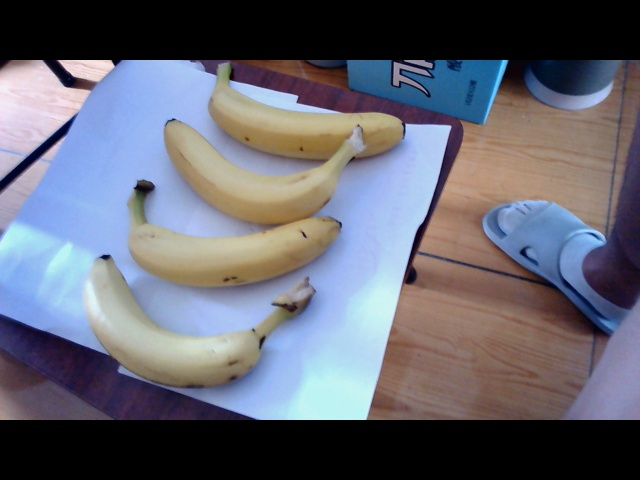banana: (159, 75, 416, 217), (66, 262, 263, 390), (127, 218, 350, 275)
